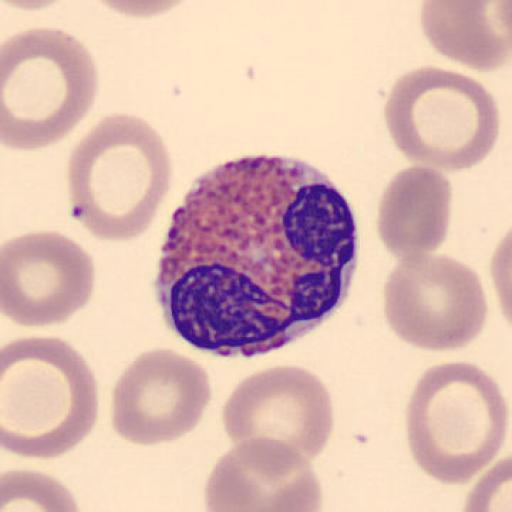RBC: (66, 110, 174, 244), (404, 359, 509, 486), (384, 65, 502, 172), (2, 26, 100, 152), (3, 334, 99, 462), (222, 363, 336, 468), (383, 251, 489, 353), (110, 346, 213, 448), (1, 230, 97, 330), (204, 434, 324, 512), (376, 163, 452, 263), (418, 0, 512, 72), (2, 467, 83, 512), (461, 455, 512, 512), (489, 225, 512, 335), (82, 0, 200, 18), (1, 0, 73, 10)
WBC: (154, 155, 360, 358)
